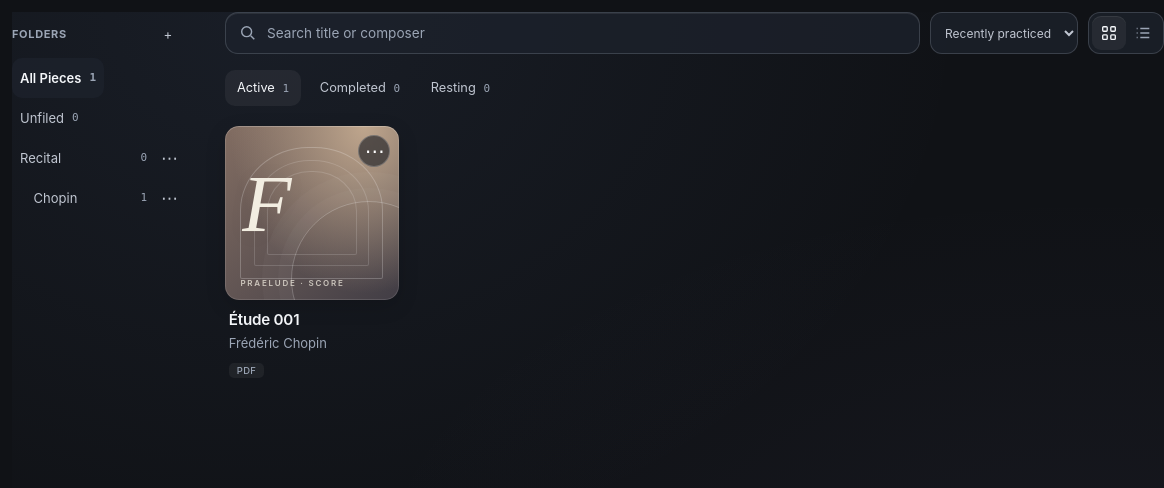
independent library review › rest and restore preserve the same piece identity and folder
Click the button named "Actions for Étude 001" at (374, 151), box top-left (358, 135), bottom-right (390, 167)
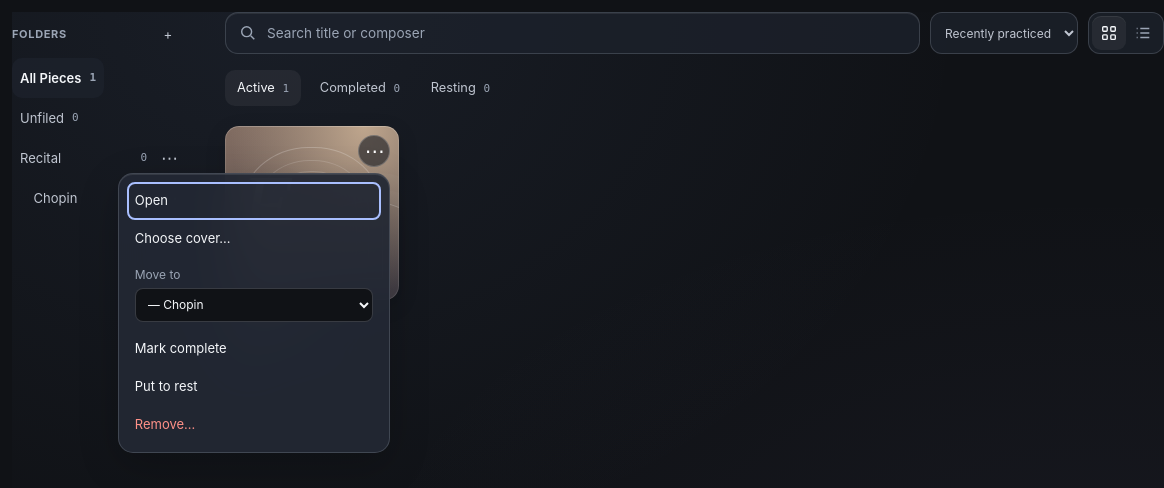
Click the menu item "Put to rest" at (254, 387), box top-left (127, 368), bottom-right (381, 406)
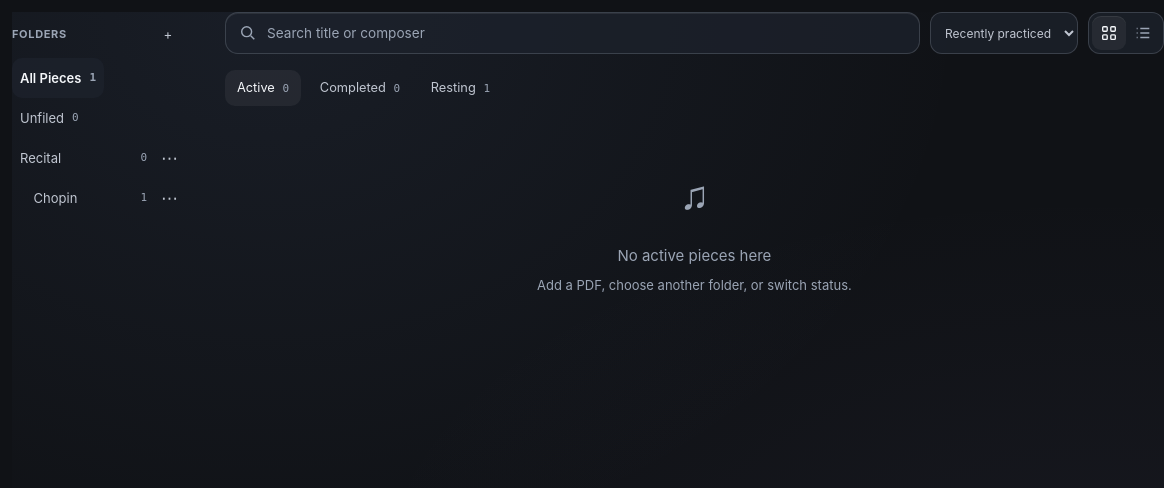
Click the tab "Resting 1" at (460, 88), box top-left (419, 70), bottom-right (502, 106)
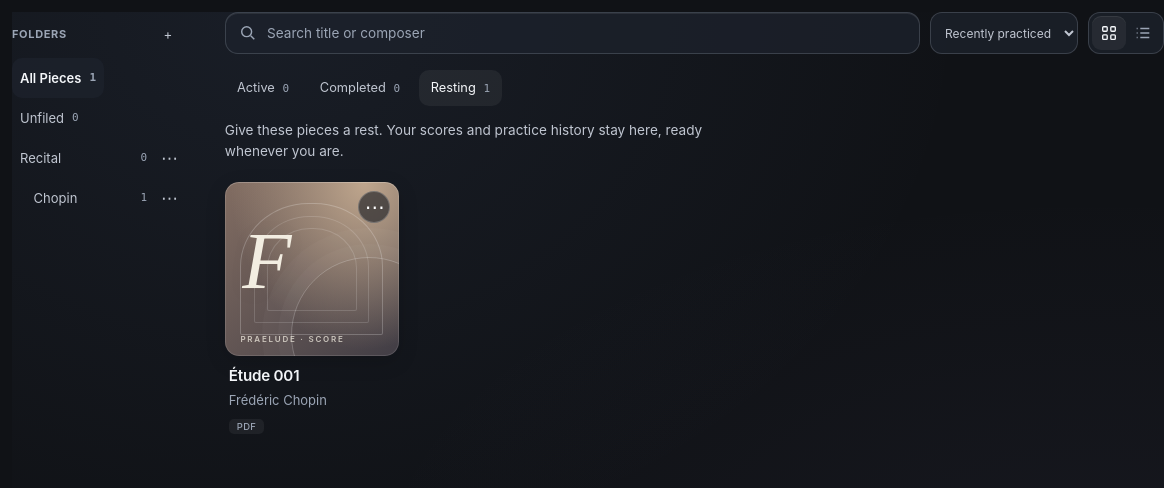
Click the button named "Actions for Étude 001" at (374, 207), box top-left (358, 191), bottom-right (390, 223)
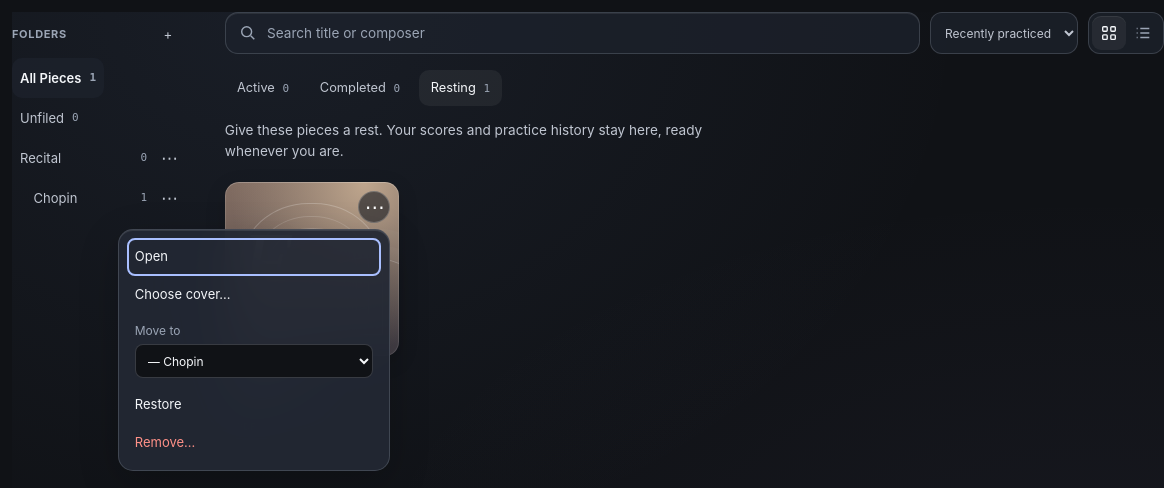
Click the menu item "Restore" at (254, 405), box top-left (127, 386), bottom-right (381, 424)
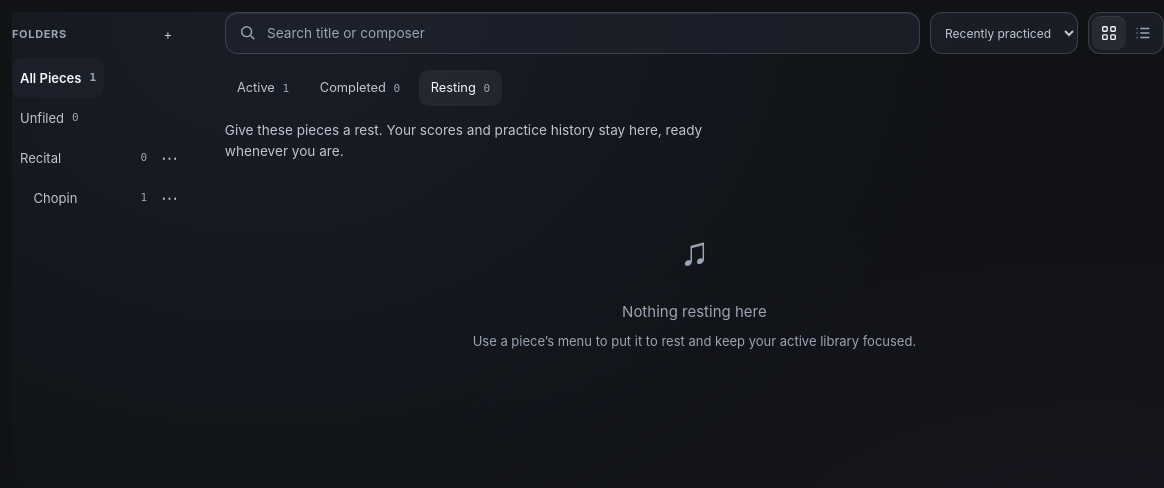
Click the tab "Active 1" at (263, 88), box top-left (225, 70), bottom-right (301, 106)
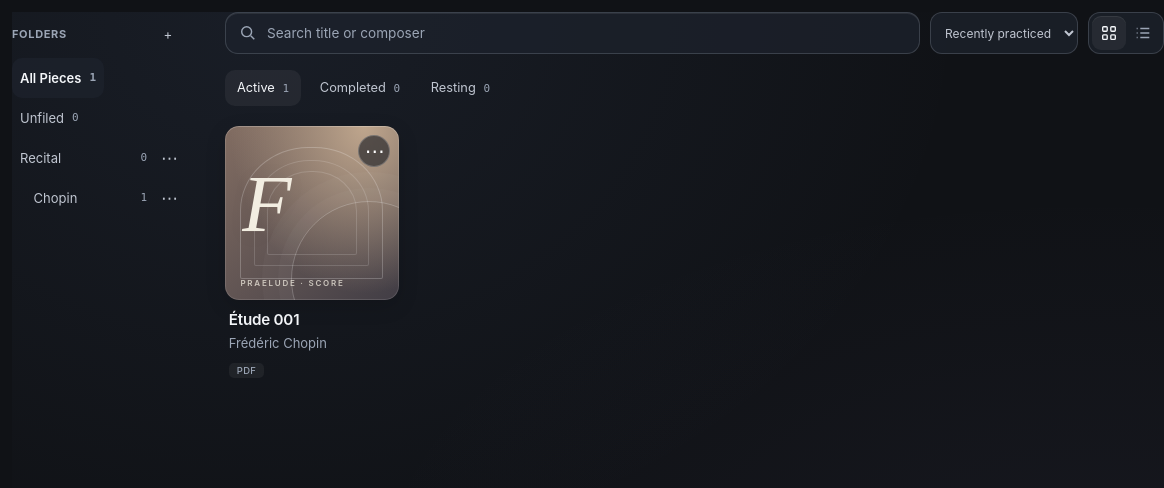
Expected: the button with aria-label "Open Étude 001" is shown, top-left (225, 126), bottom-right (399, 383)
